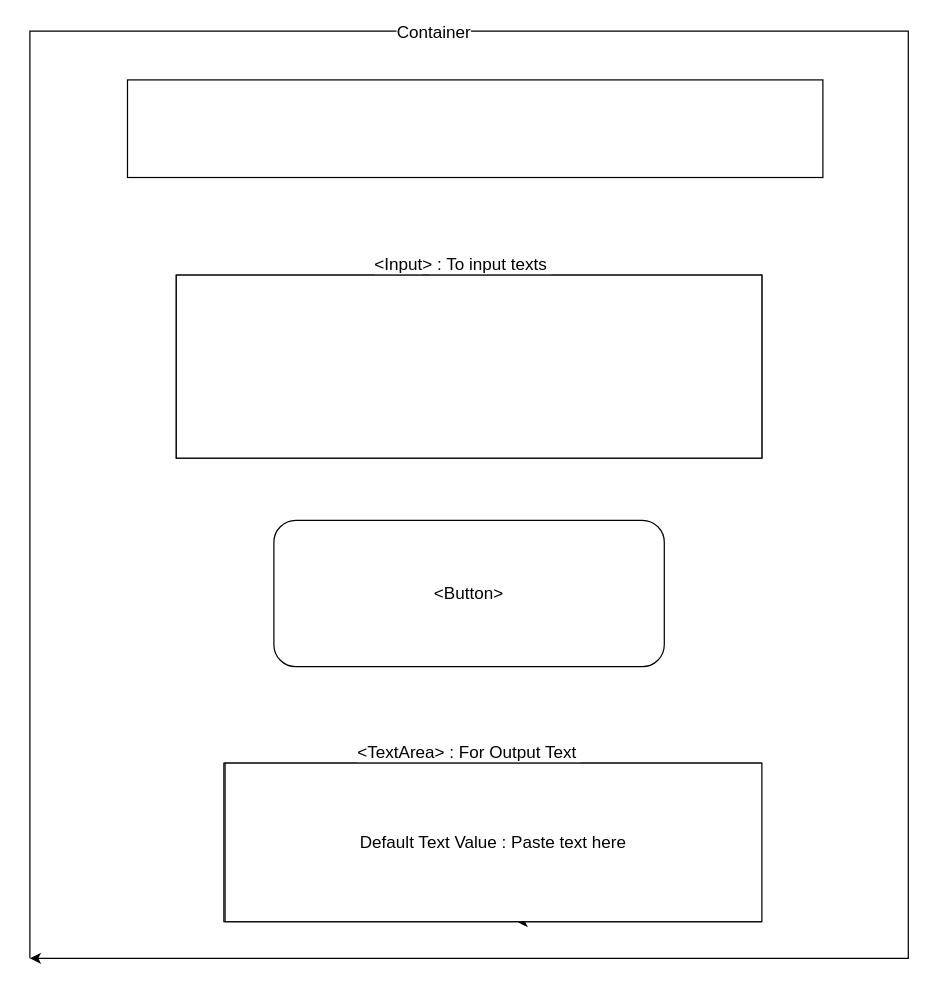
This 939x989 diagram has some shape labels left out. Each missing label, with the box of its shape:
<h1> Copy to Clipboard </h1>: (126, 79, 823, 178)
Default Text Value: Copy me!: (175, 274, 762, 458)
